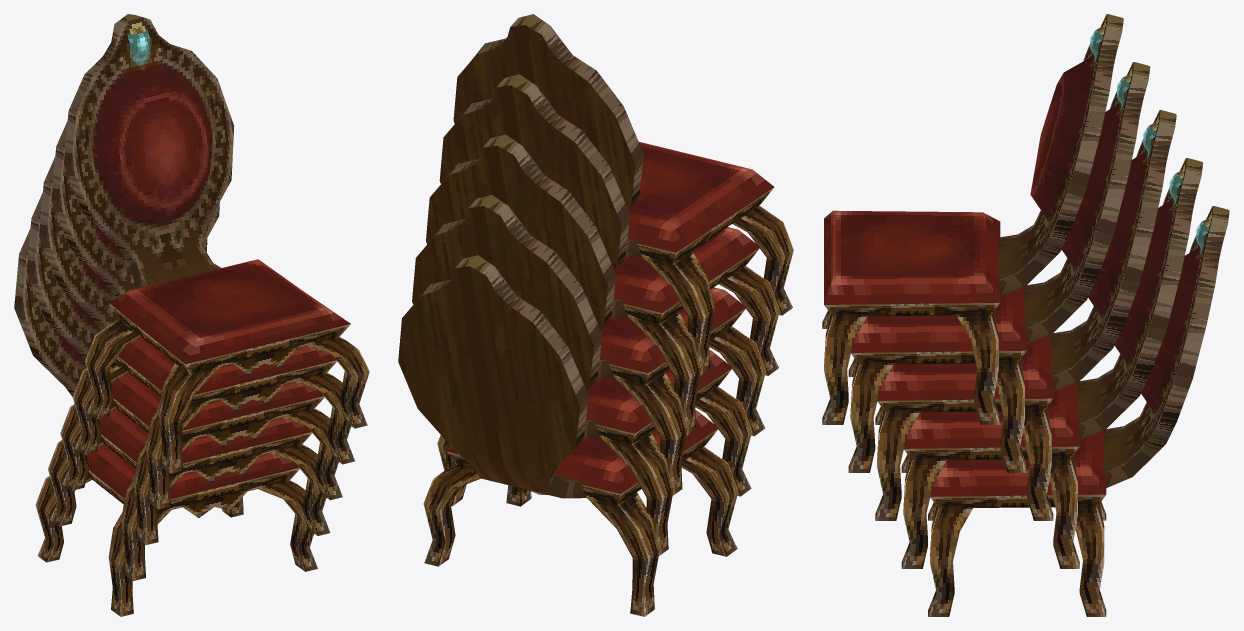
The model's file is isu14_3.glb.
3 views of the same model, side by side, from view 1: azimuth 30°, elevation 25°; view 2: azimuth 150°, elevation 25°; view 3: azimuth 270°, elevation 25° (orthographic). The views are drawn at different scales.
Visible parts, largest first — view 1: isu14_3; view 2: isu14_3; view 3: isu14_3.
Boxes of the visible parts, box(x1,y1,x2,y2) form: isu14_3: box(14, 14, 369, 616); isu14_3: box(398, 14, 793, 616); isu14_3: box(822, 14, 1229, 616).
Size of the model in its own units: 142 by 345 by 231.
4 materials, 4 textured.
